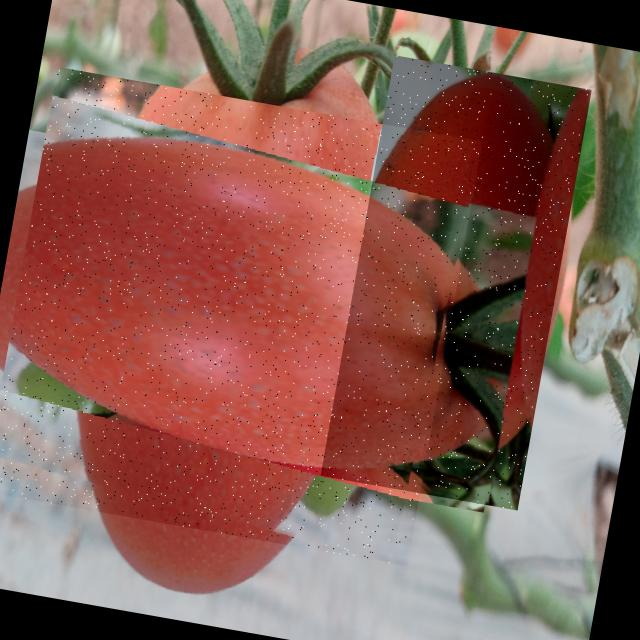Ripe Tomato: (0, 66, 481, 565), (320, 55, 591, 510)
